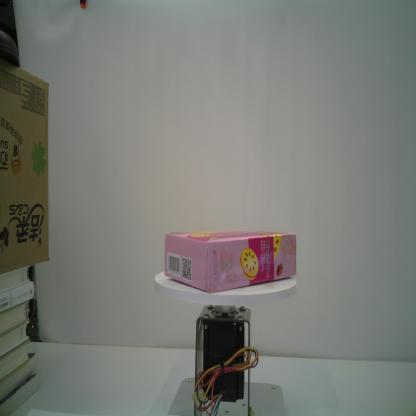Dessert: (164, 229, 298, 294)
